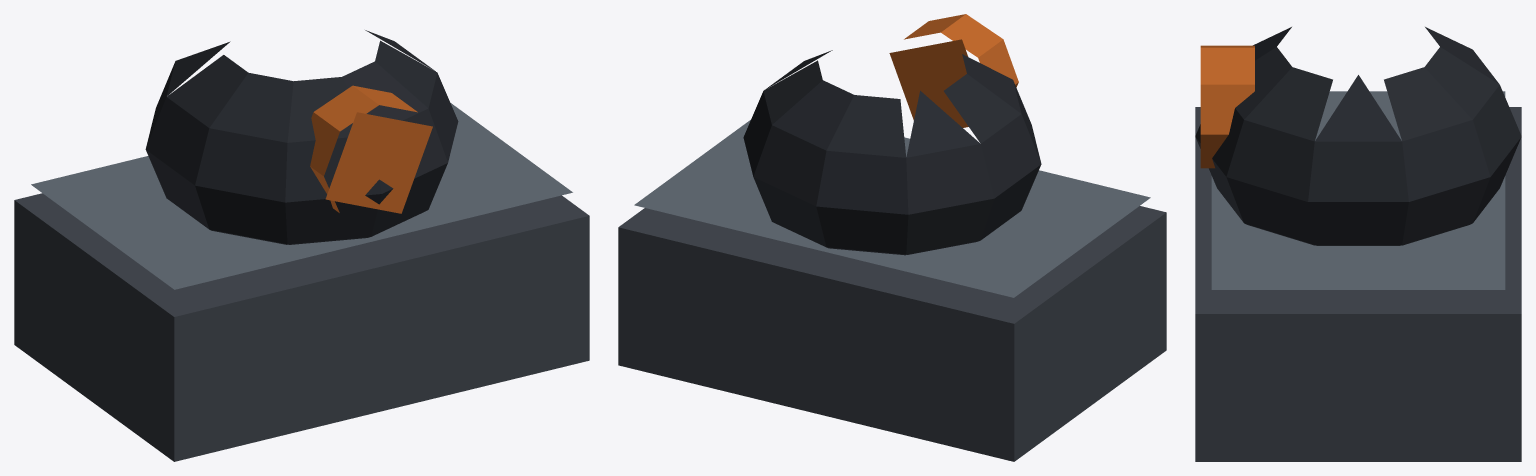
File: droid-sentry.lod.glb
3 views of the same model, side by side, from view 1: azimuth 30°, elevation 25°; view 2: azimuth 150°, elevation 25°; view 3: azimuth 270°, elevation 25° (orthographic). The views are drawn at different scales.
Parts seen in each view (by area): view 1: m; view 2: m; view 3: m.
Part boxes in pixels (bbox=[...]): m: bbox=[14, 30, 589, 461]; m: bbox=[618, 14, 1166, 461]; m: bbox=[1195, 27, 1521, 461].
Size of the model in its own units: 0.1 by 0.0709 by 0.0667.
